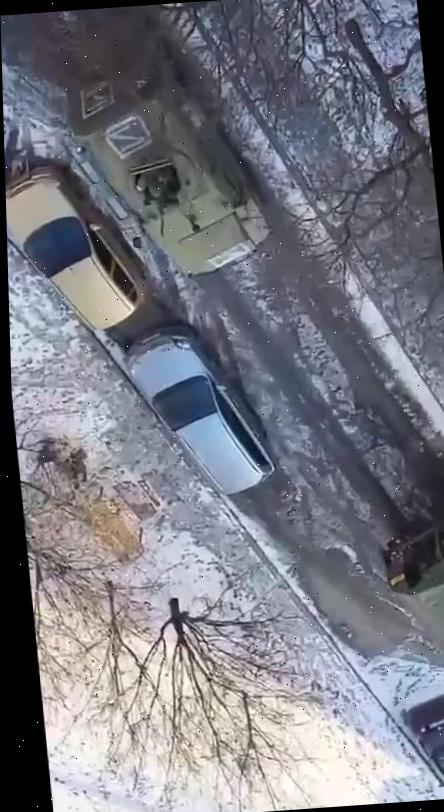armored_car: (57, 40, 275, 283)
car: (120, 315, 277, 501), (5, 160, 146, 336), (409, 700, 444, 801)
truck: (384, 496, 444, 716)
